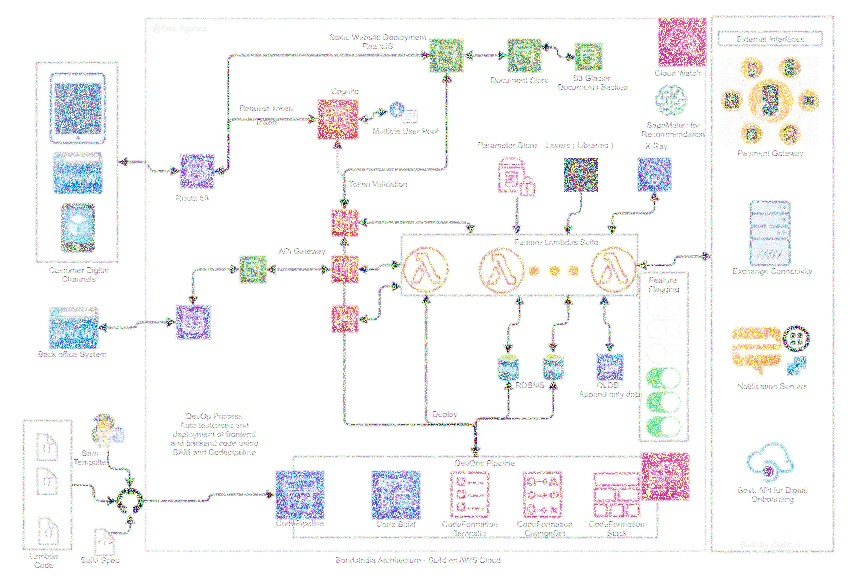API-Gateway: (328, 303, 362, 335), (329, 207, 360, 237), (330, 255, 361, 285)
Cloud Watch: (657, 18, 707, 66)
CloudFormation Stack: (640, 451, 691, 502)
CodeBuild: (368, 467, 424, 521)
CodePipeline: (274, 466, 328, 521)
Cognito: (314, 94, 361, 142)
Dynamo DB: (595, 351, 627, 383)
Lambda: (475, 241, 528, 295), (402, 243, 453, 295), (592, 244, 637, 295)
Mobile Client: (42, 68, 112, 149), (55, 198, 100, 258)
Parameter Store: (492, 153, 539, 200)
RDS: (537, 351, 571, 383), (494, 351, 524, 383)
Route53: (176, 151, 217, 192), (174, 303, 213, 343)
S3: (426, 34, 467, 76), (506, 32, 543, 76), (236, 253, 270, 286), (576, 36, 605, 72)
Sagemaker: (653, 80, 693, 118)
Websites: (44, 150, 111, 197)
X-Ray: (637, 154, 676, 194)
